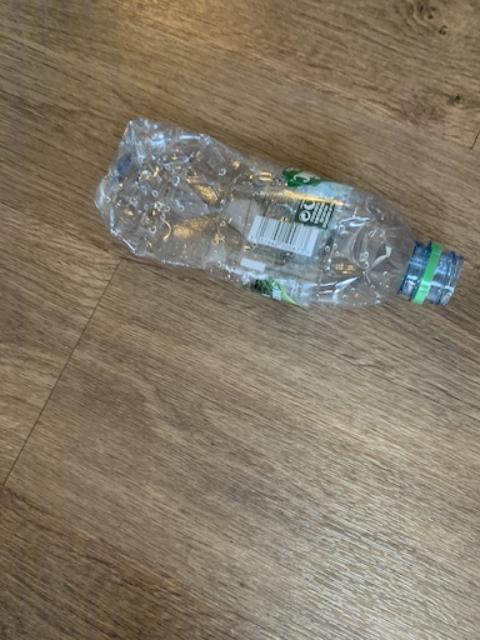plastic: (94, 116, 460, 305)
